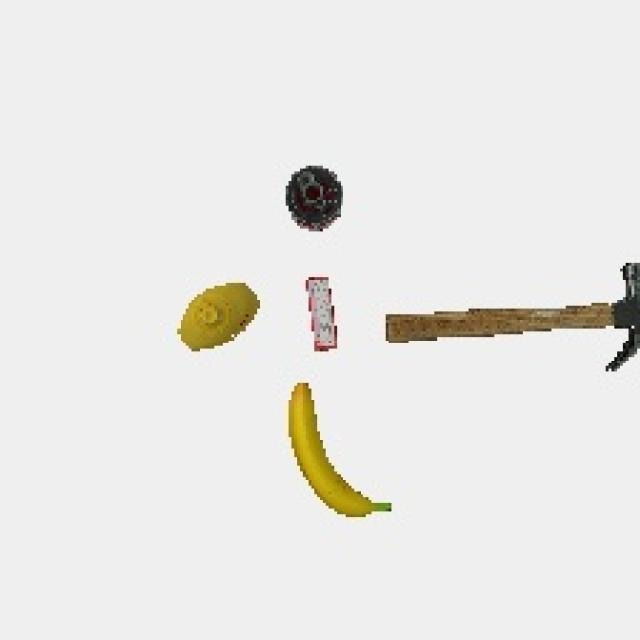Banana: (282, 377, 403, 528)
GelatinBox: (297, 273, 351, 358)
Hammer: (376, 254, 640, 374)
MustardBottle: (166, 275, 274, 358)
TomatoSoupCan: (276, 161, 353, 236)
